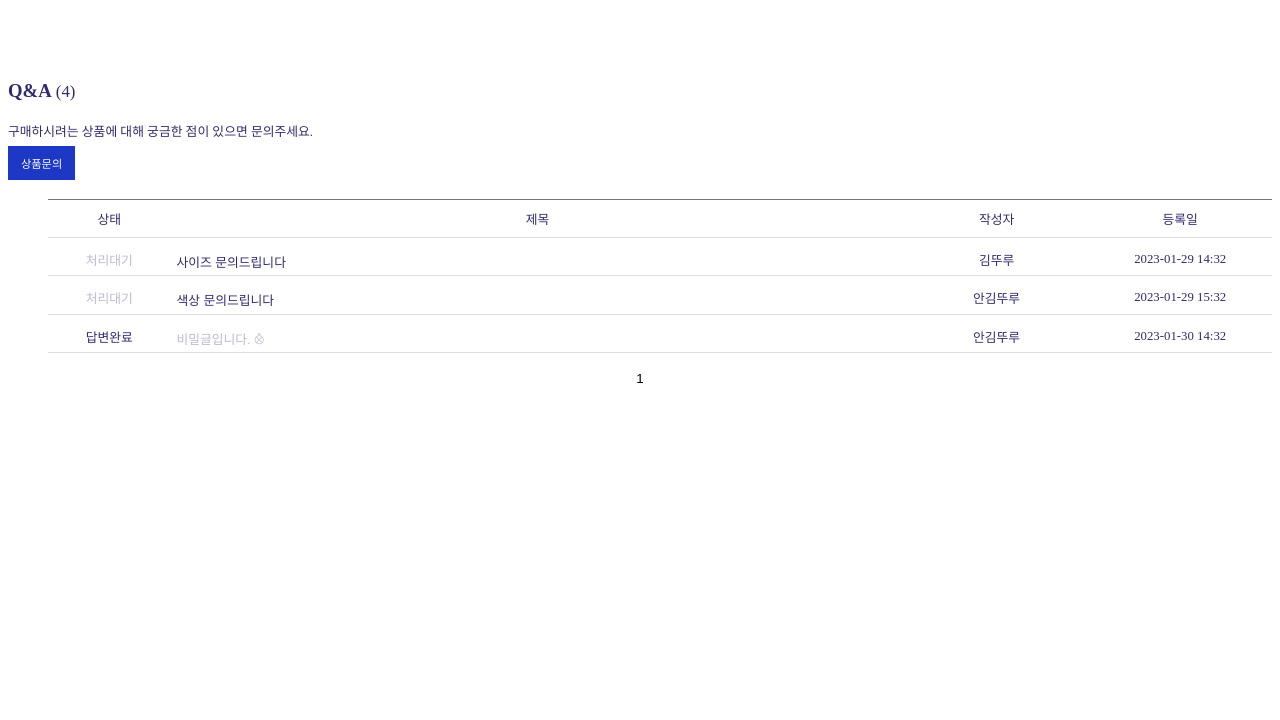
QnASection › 상품문의 작성 › 로그인을 했을 경우 › 상품문의 작성 모달을 볼 수 있다
Click the button "상품문의" at (42, 163), box left=8, top=146, right=75, bottom=180
(page scrolled)
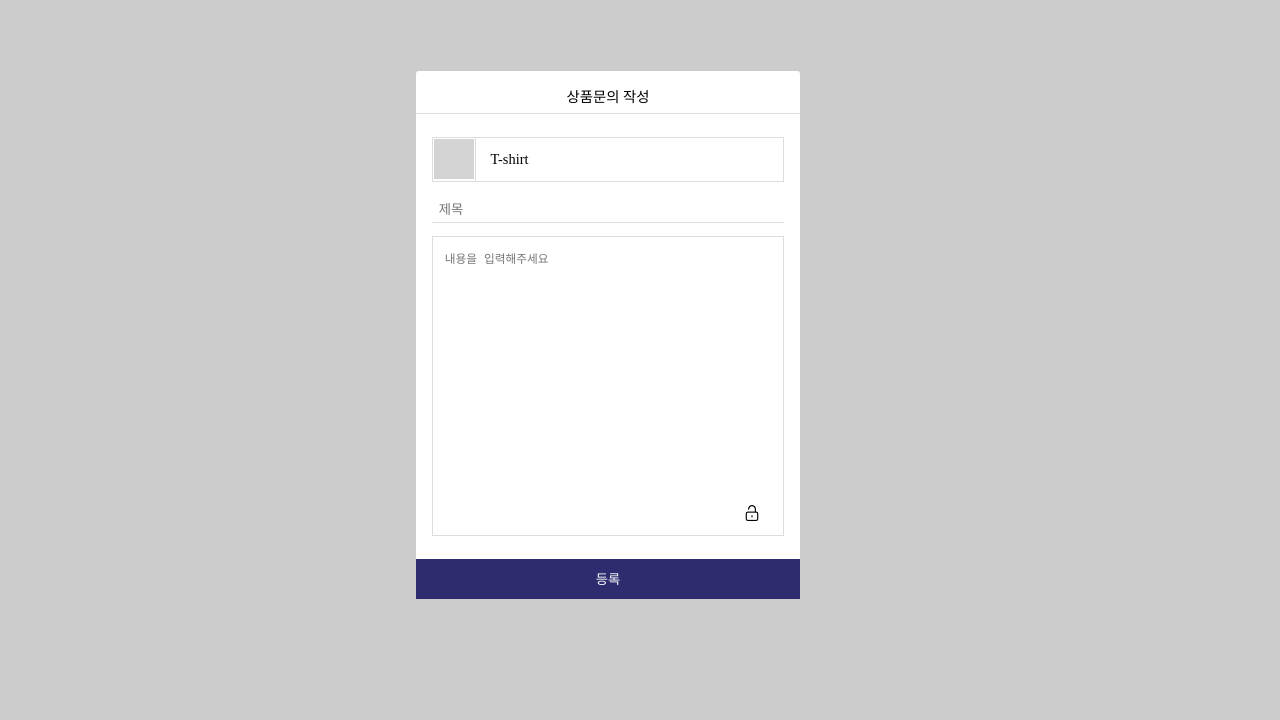
Expected: the text box labelled "상품문의 작성" is shown, left=433, top=237, right=783, bottom=483
